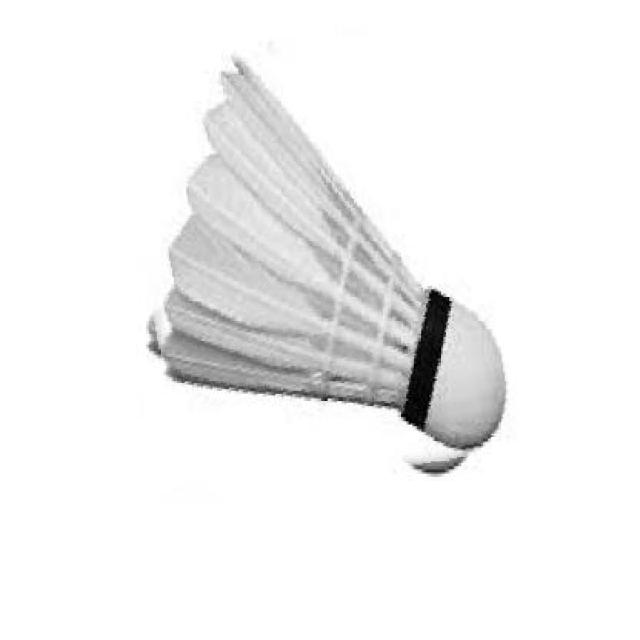Shuttlecock: (129, 28, 502, 492)
